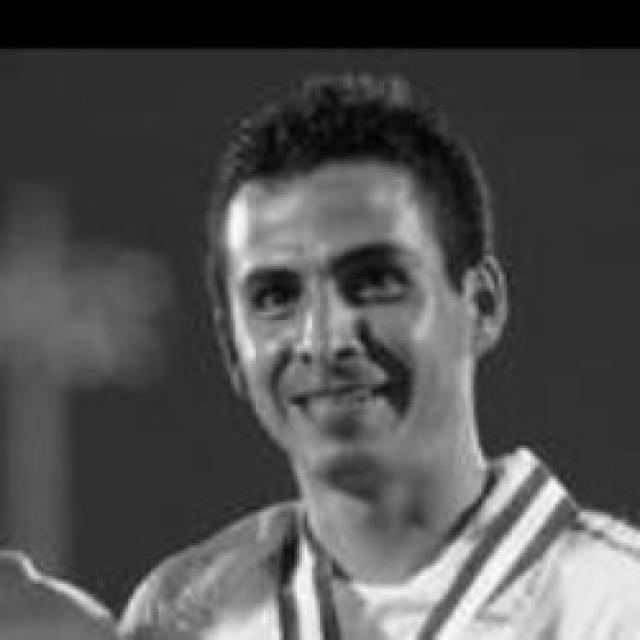real: (226, 168, 464, 472), (245, 264, 416, 310)
